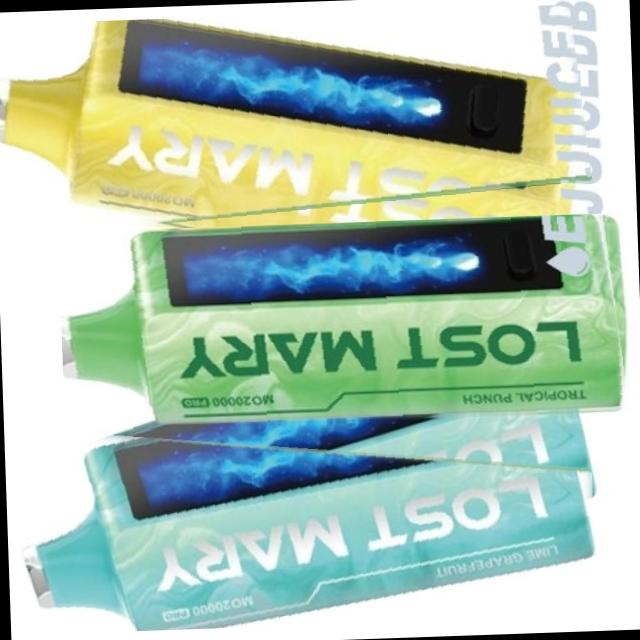Hazard: (0, 2, 592, 239), (17, 406, 600, 634), (58, 211, 630, 432)
